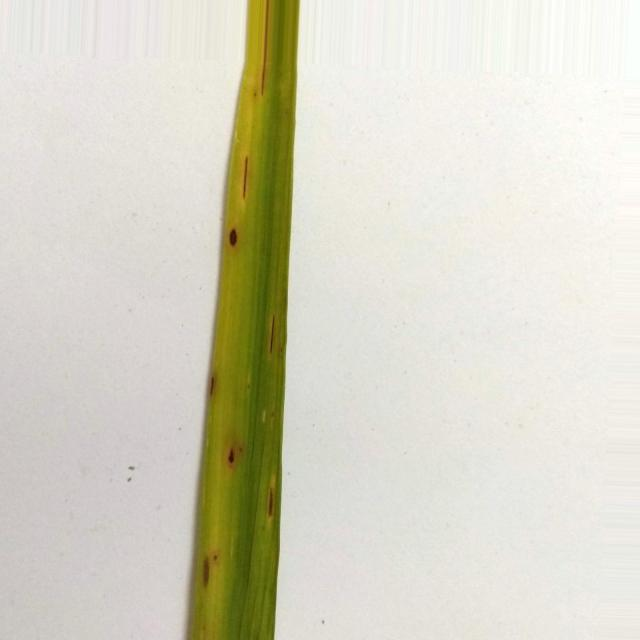Brown_Spot: (261, 4, 268, 93), (268, 315, 275, 352), (242, 156, 248, 198), (268, 488, 276, 516), (202, 558, 210, 586), (209, 375, 218, 396), (229, 229, 238, 246), (228, 448, 235, 464)
